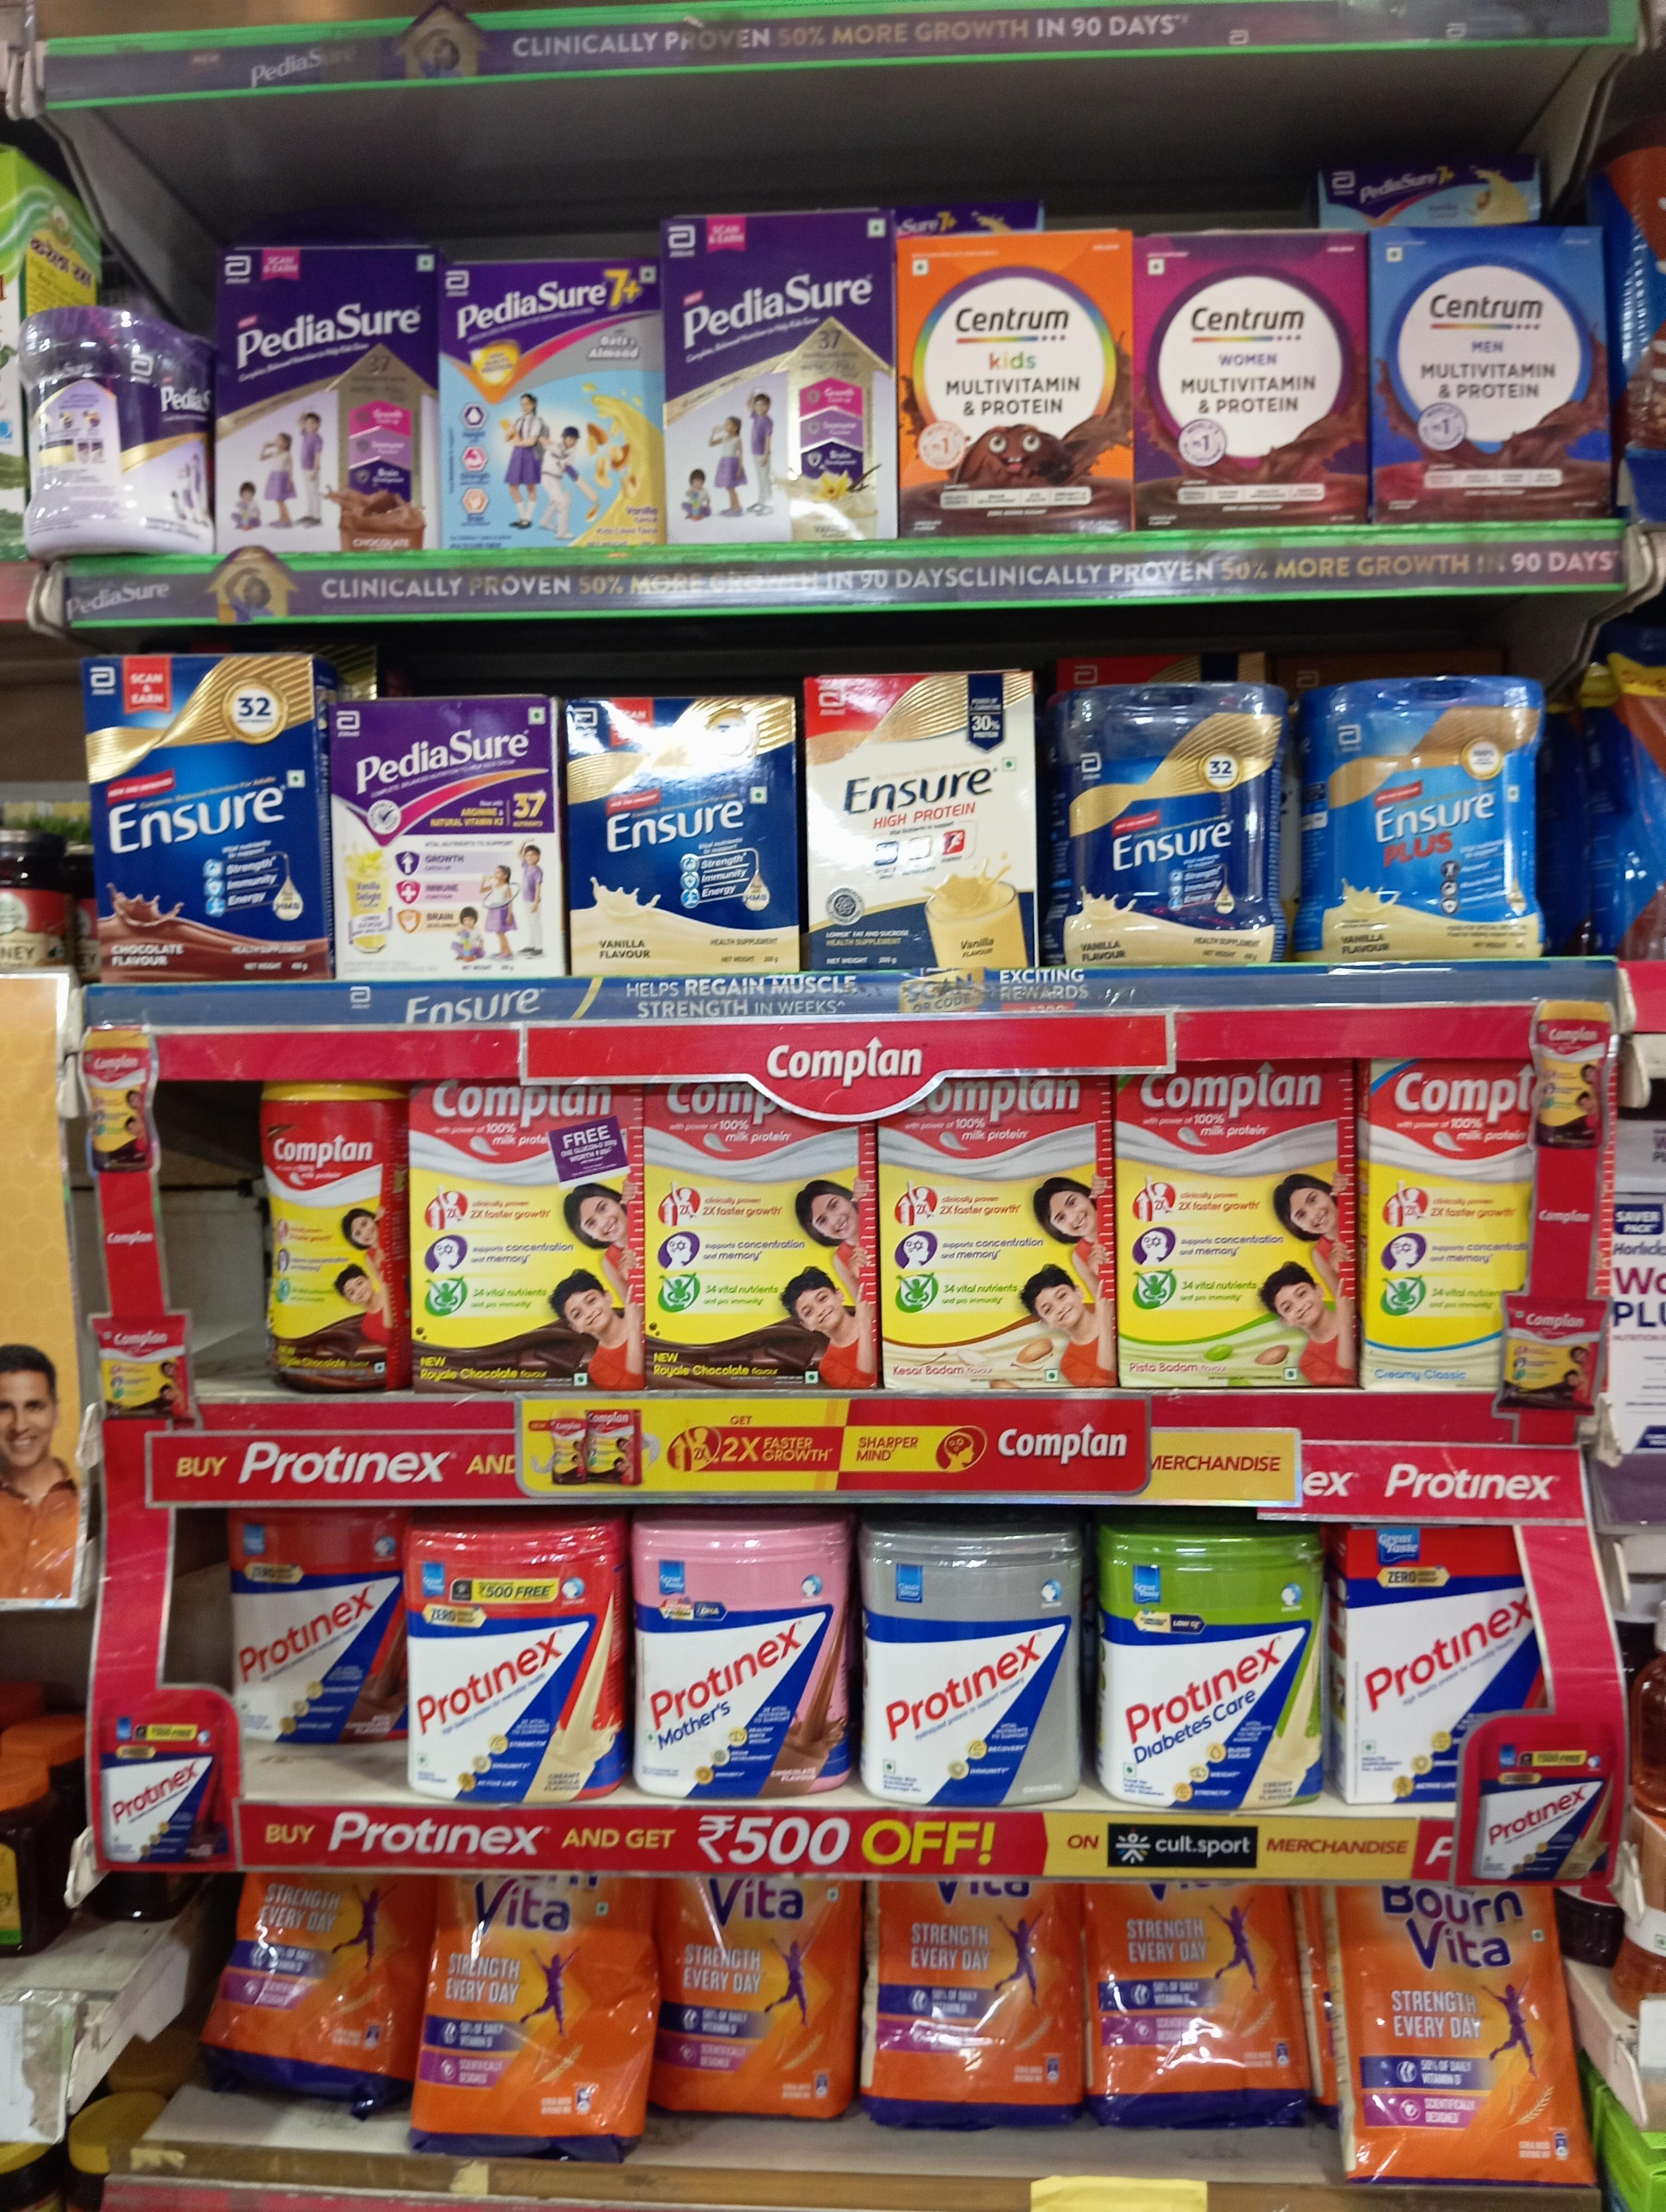BOURN_VITA_1_KG_POUCH: (1339, 1880, 1591, 2195), (416, 1871, 648, 2153), (861, 1875, 1080, 2123), (1094, 1878, 1306, 2123), (655, 1866, 840, 2119)
COMPLAN_CHOCOLATE_500_GMS_JAR: (257, 1086, 406, 1392)
COMPLAN_CHOCOLATE_500_GMS_PACK: (413, 1082, 641, 1395), (651, 1105, 878, 1383)
COMPLAN_CREAMY_CLASSIC_500_G_PACK: (1363, 1058, 1505, 1387)
COMPLAN_KESAR_BADAM_500_GMS_PACK: (886, 1116, 1115, 1385)
COMPLAN_PISTA_BADAM_500_GMS_PACK: (1122, 1075, 1356, 1385)
ENSURE_VANILLA_400_G_PACK: (810, 678, 1039, 965), (572, 701, 798, 974)
PEDIASURE_CHOCOLATE_500_G_PACK: (214, 245, 434, 553)
PEDIASURE_VANILLA_500_G_PACK: (665, 219, 891, 542)
PROTINEX_CHOCOLATE_400_G_JAR: (231, 1516, 401, 1740)
PROTINEX_ORIGINAL_400_G_JAR: (861, 1532, 1074, 1803)
PROTINEX_VANILLA_400_G_JAR: (410, 1532, 626, 1805)
